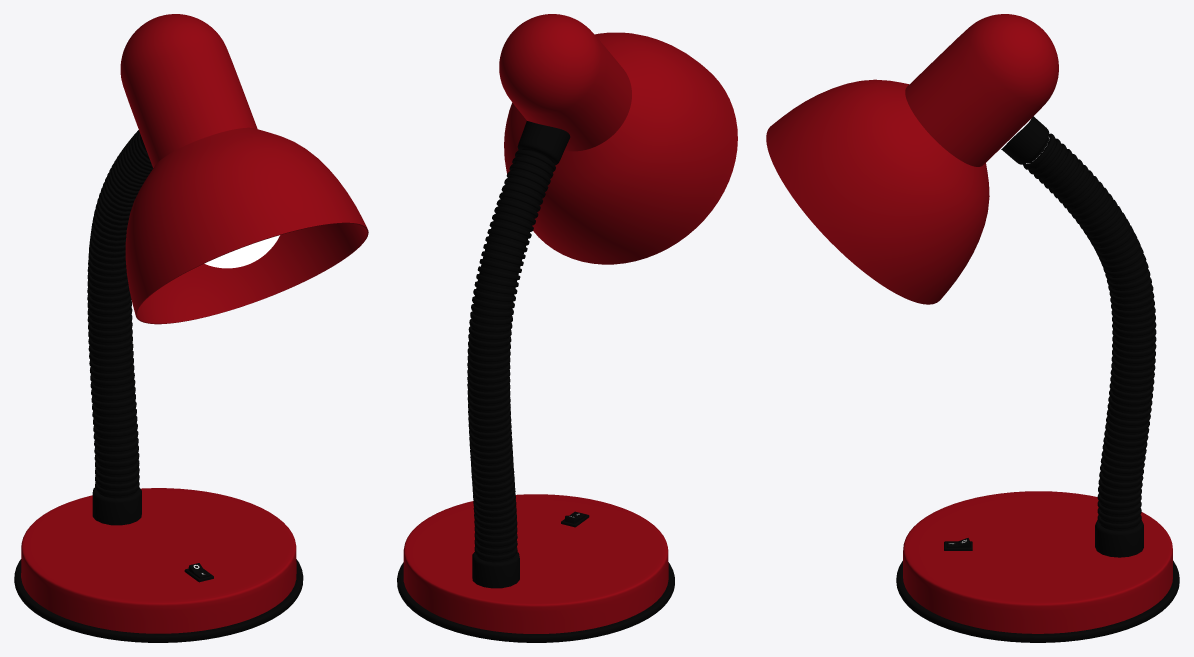
The picture shows the model from 3 angles, left to right: view 1: azimuth 30°, elevation 25°; view 2: azimuth 150°, elevation 25°; view 3: azimuth 270°, elevation 25°; orthographic projection. The views are drawn at different scales.
Visible parts, largest first — view 1: lamp_shade_3, sole_0, pipe_4, bulb_6; view 2: lamp_shade_3, sole_0, pipe_4; view 3: lamp_shade_3, sole_0, pipe_4.
Part boxes in pixels (x1=…): lamp_shade_3: x1=120, y1=14, x2=368, y2=324; sole_0: x1=14, y1=488, x2=303, y2=642; pipe_4: x1=87, y1=130, x2=153, y2=525; bulb_6: x1=204, y1=235, x2=279, y2=268; lamp_shade_3: x1=499, y1=14, x2=737, y2=264; sole_0: x1=397, y1=494, x2=674, y2=642; pipe_4: x1=467, y1=121, x2=570, y2=588; lamp_shade_3: x1=766, y1=14, x2=1058, y2=304; sole_0: x1=896, y1=491, x2=1179, y2=642; pipe_4: x1=1001, y1=116, x2=1156, y2=557.
Bounding box in the file's own units: 2.09 × 4.59 × 3.04.
5 materials, 1 textured.
